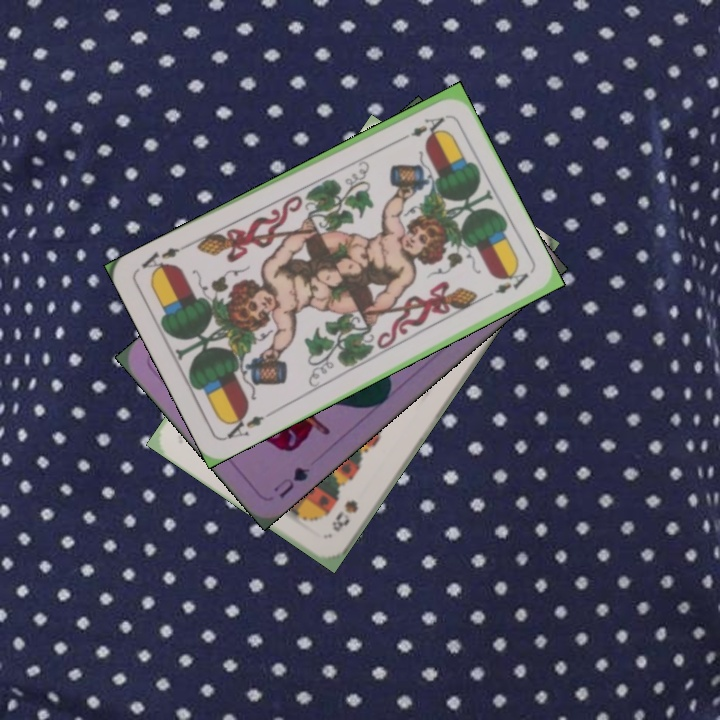EA: (393, 112, 448, 144), (221, 408, 267, 442)
GU: (269, 462, 313, 502)
S8: (327, 495, 361, 535)
